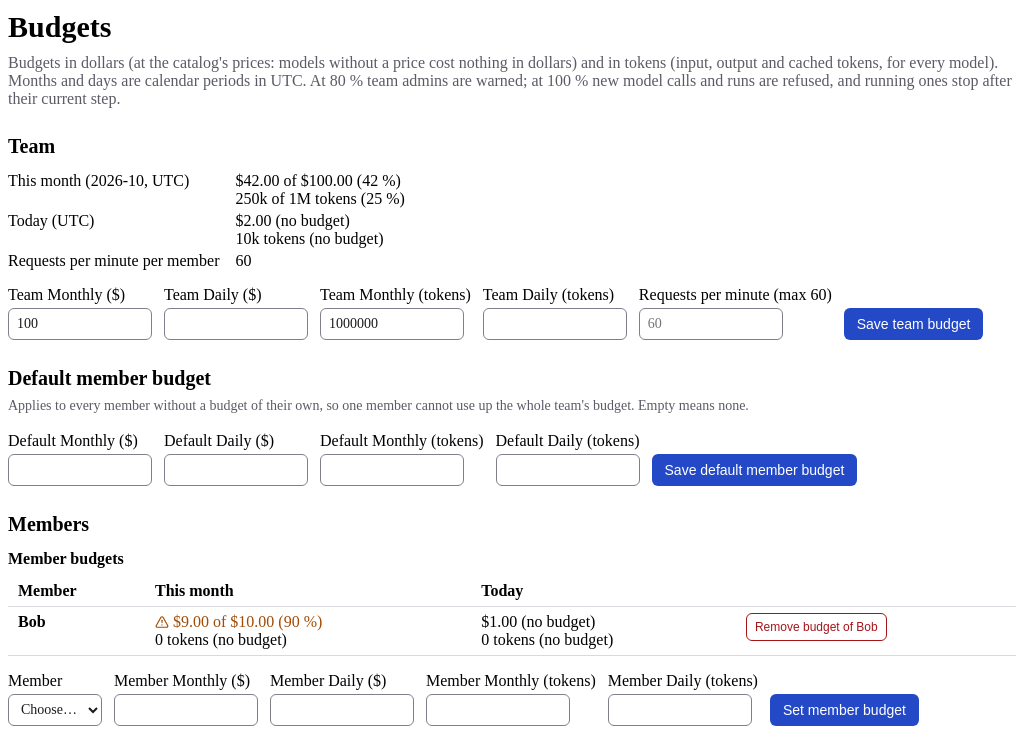
it: team budgets page (KOBE-42) › saves the default member budget
Step 1. Type "50000" into the field labelled "Default Daily (tokens)" → {"x": 568, "y": 470}, box [496,454,640,486]
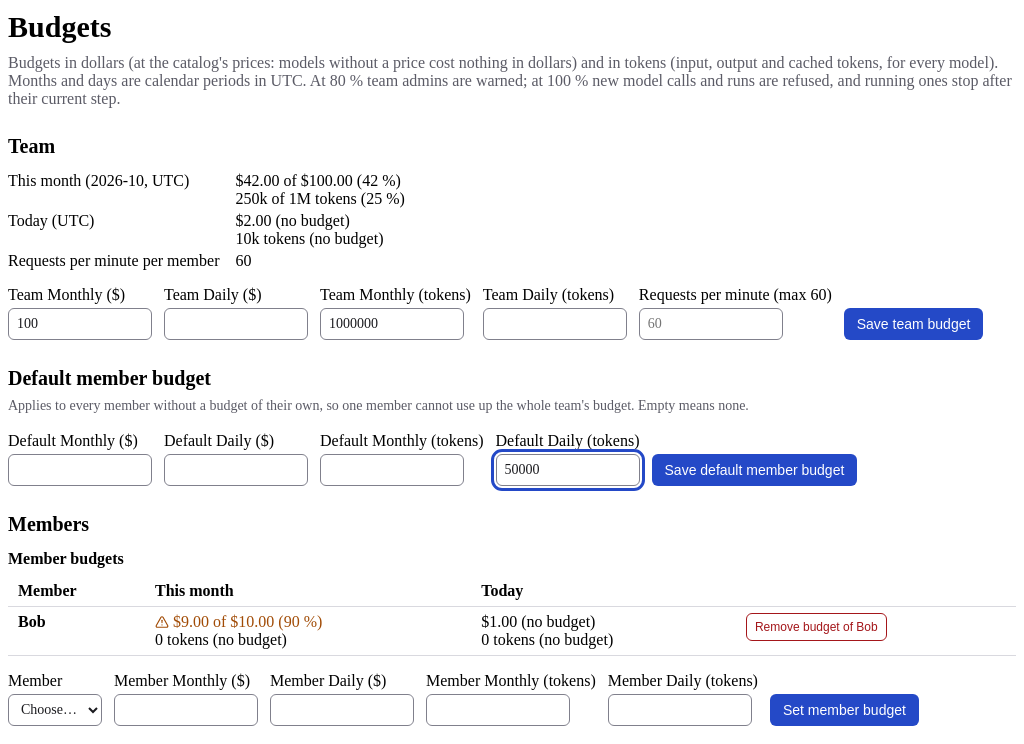
Step 2. Click the button "Save default member budget" → {"x": 754, "y": 470}, box [652,454,857,486]
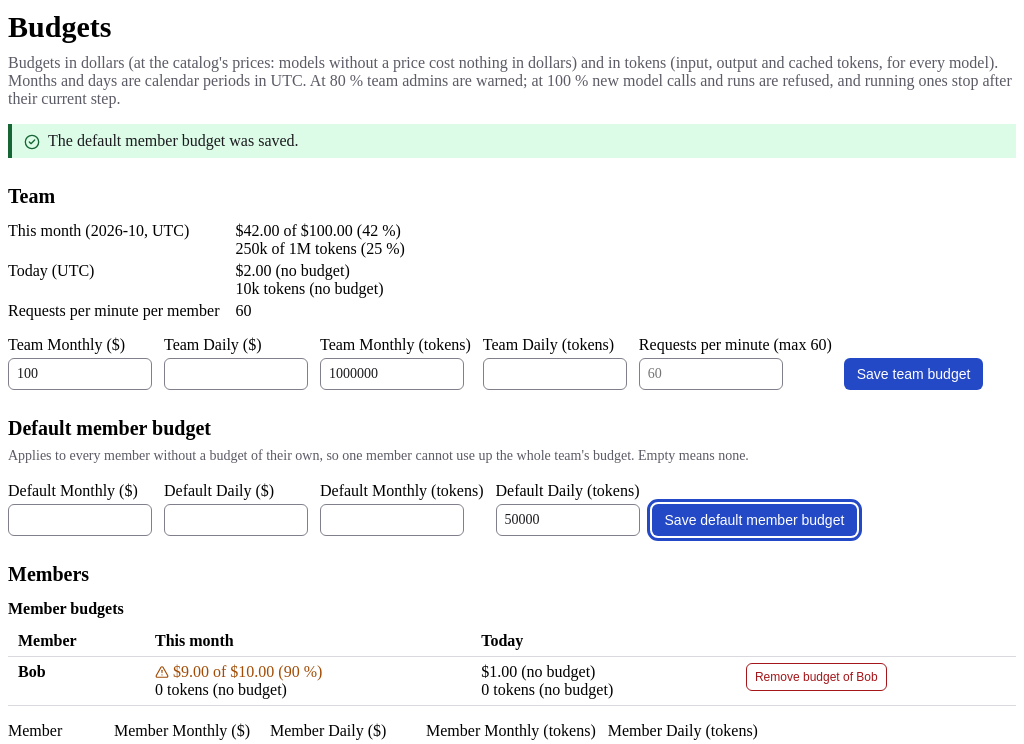
Expected: the text "The default member budget was saved." is shown, [48,132,299,148]
